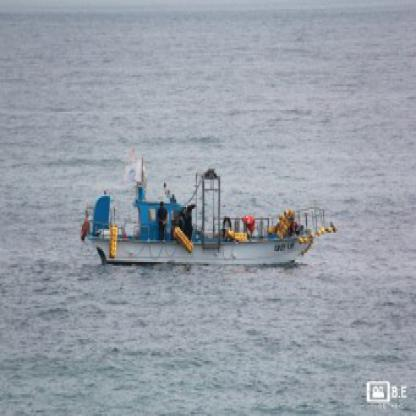fish-b: (76, 143, 340, 278)
